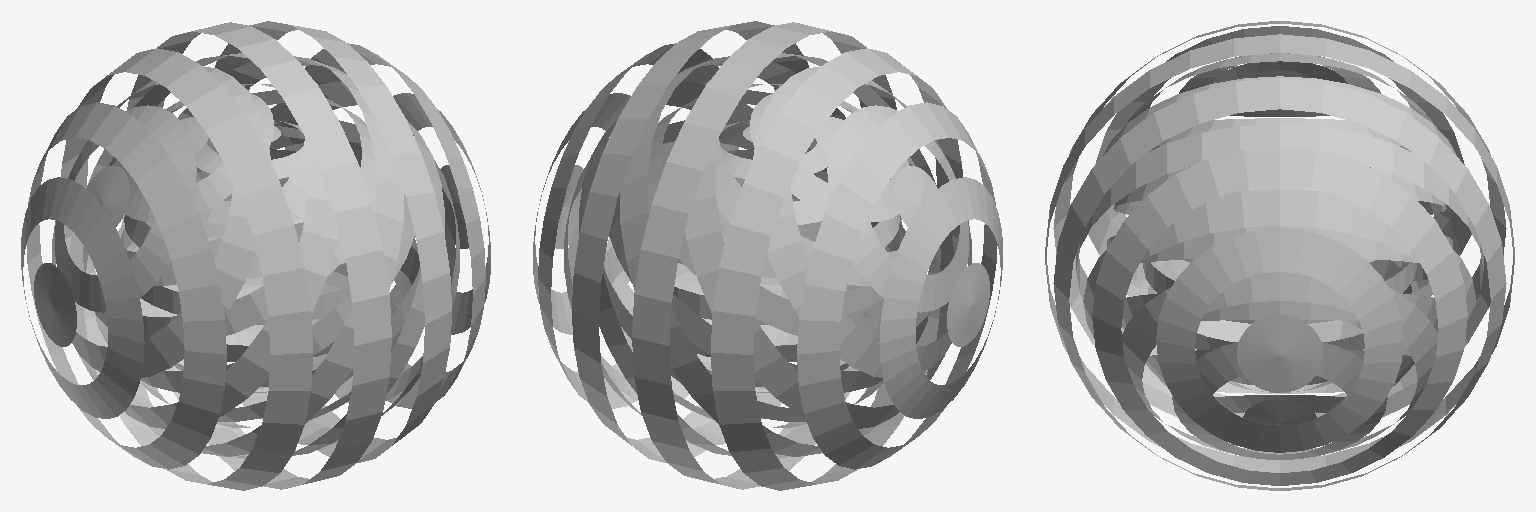
File: oddSphere.obj
The picture shows the model from 3 angles: view 1: azimuth 30°, elevation 25°; view 2: azimuth 150°, elevation 25°; view 3: azimuth 270°, elevation 25°; orthographic projection.
Visible parts, largest first — view 1: Sphere.001_Sphere.003; view 2: Sphere.001_Sphere.003; view 3: Sphere.001_Sphere.003.
Boxes of the visible parts, box(x1,y1,x2,y2) form: Sphere.001_Sphere.003: box(21, 21, 490, 490); Sphere.001_Sphere.003: box(533, 21, 1002, 490); Sphere.001_Sphere.003: box(1045, 21, 1514, 490).
Size of the model in its own units: 7.33 by 7.3 by 7.3.